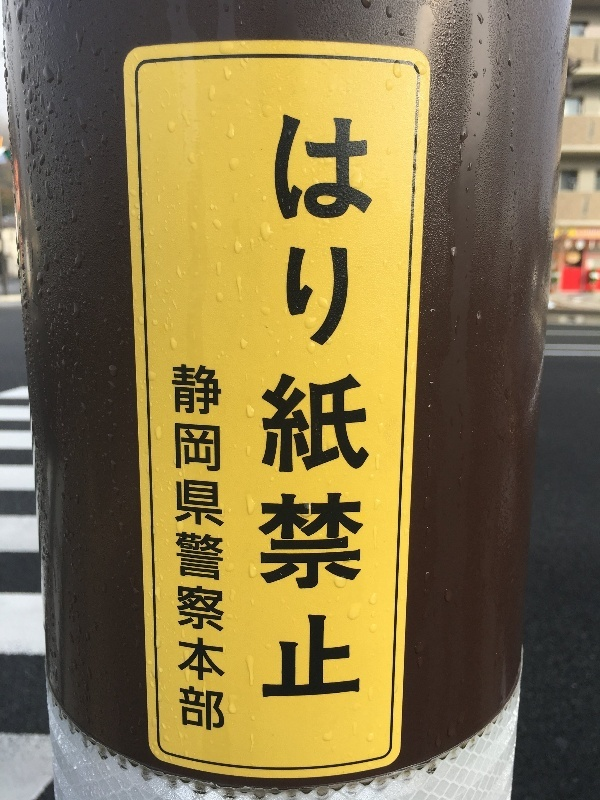text: (273, 110, 288, 703), (289, 110, 304, 703), (305, 110, 320, 703), (321, 110, 336, 703), (337, 110, 352, 703), (353, 110, 368, 703), (177, 359, 192, 736), (193, 359, 208, 736), (209, 359, 224, 736), (170, 359, 176, 736), (369, 110, 372, 703), (225, 359, 227, 736)
